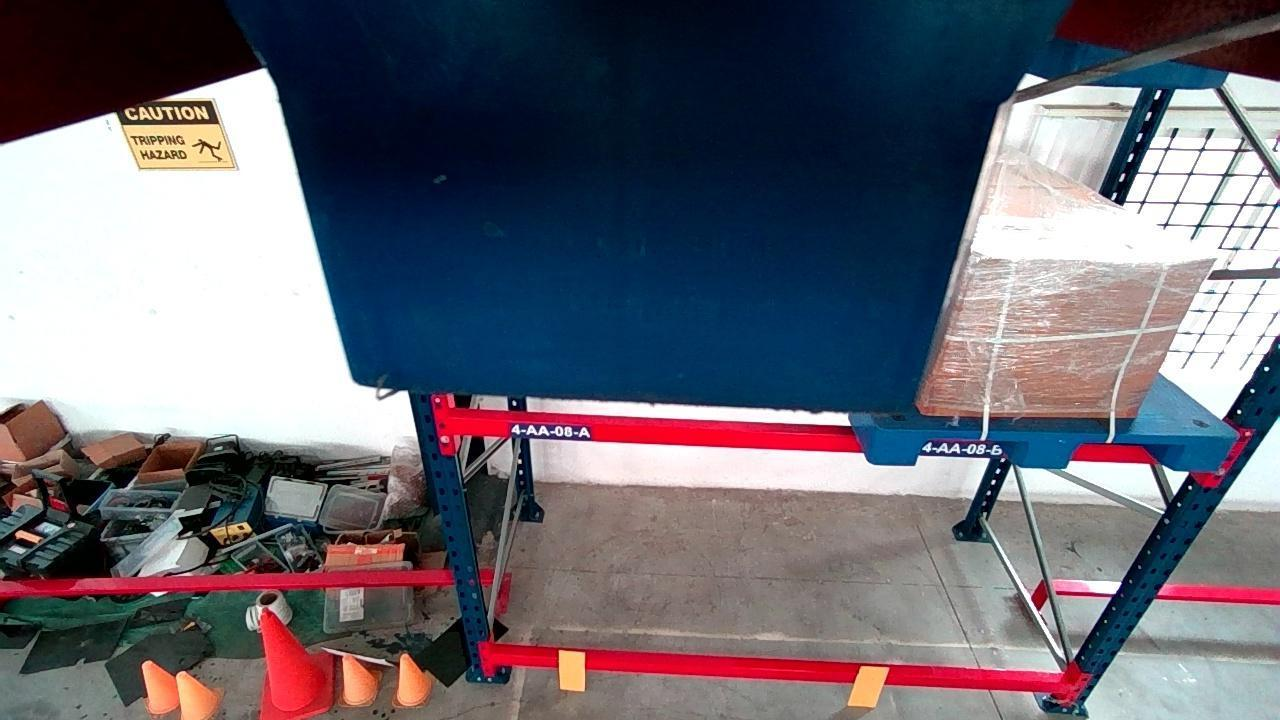h_rack: (488, 643, 1071, 693), (449, 410, 859, 447)
orange_strip: (848, 665, 888, 708), (559, 651, 583, 691)
small_pallet: (872, 428, 1239, 474)
